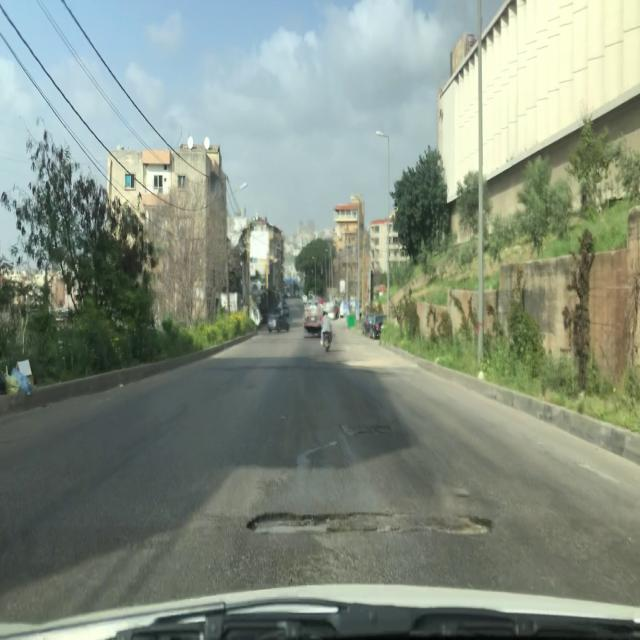Pothole: (244, 506, 496, 540)
